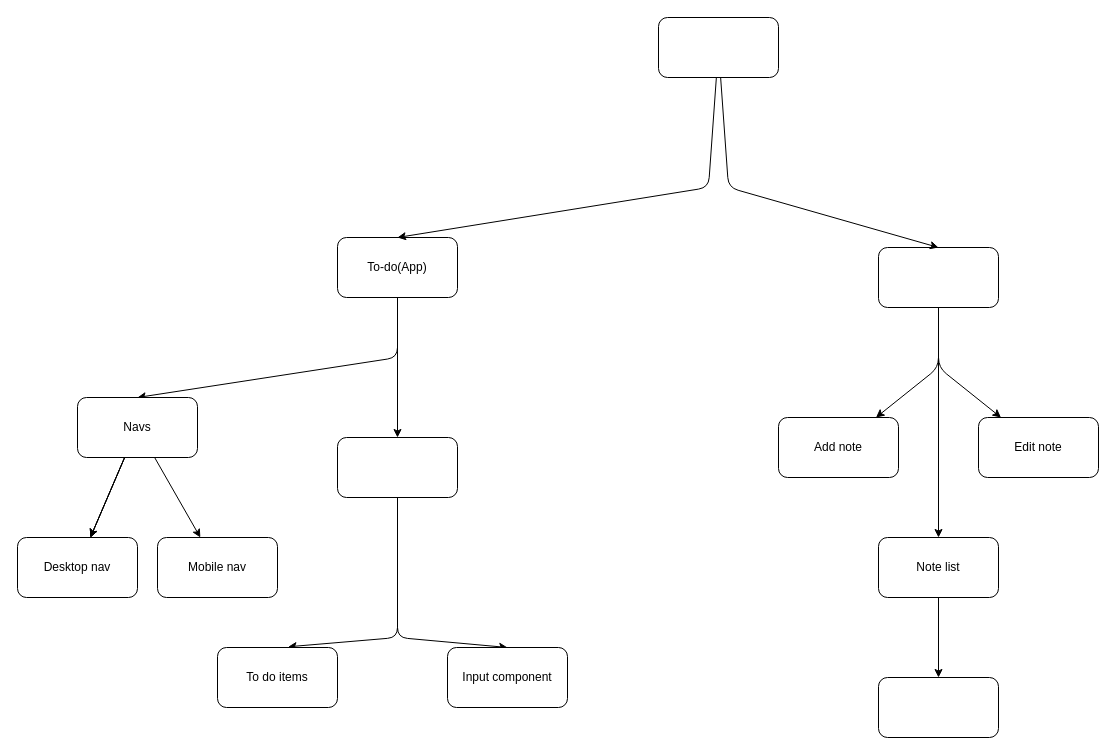
This 1116x755 diagram has some shape labels left out. Here are the shapes that lost their labels. From the top down, the centre of each, then its label:
At (718,47): "App".
At (938,277): "Notes App(App)".
At (397,467): "To-Do component".
At (938,707): "Notes".
